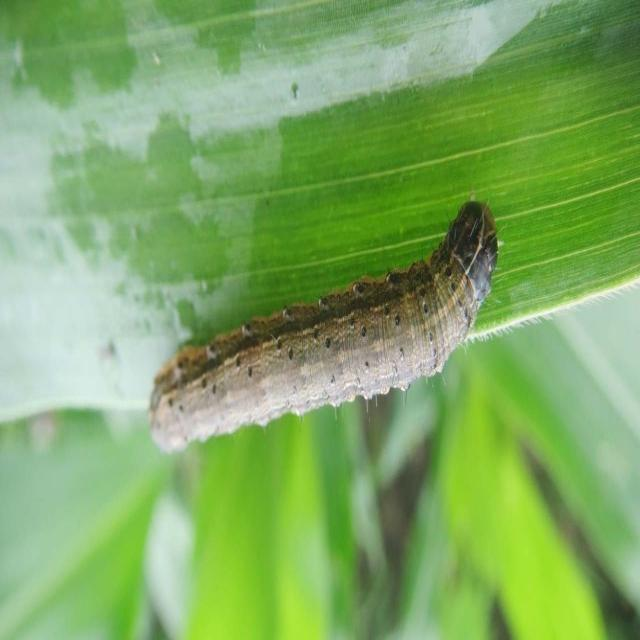worm: (146, 131, 505, 463)
